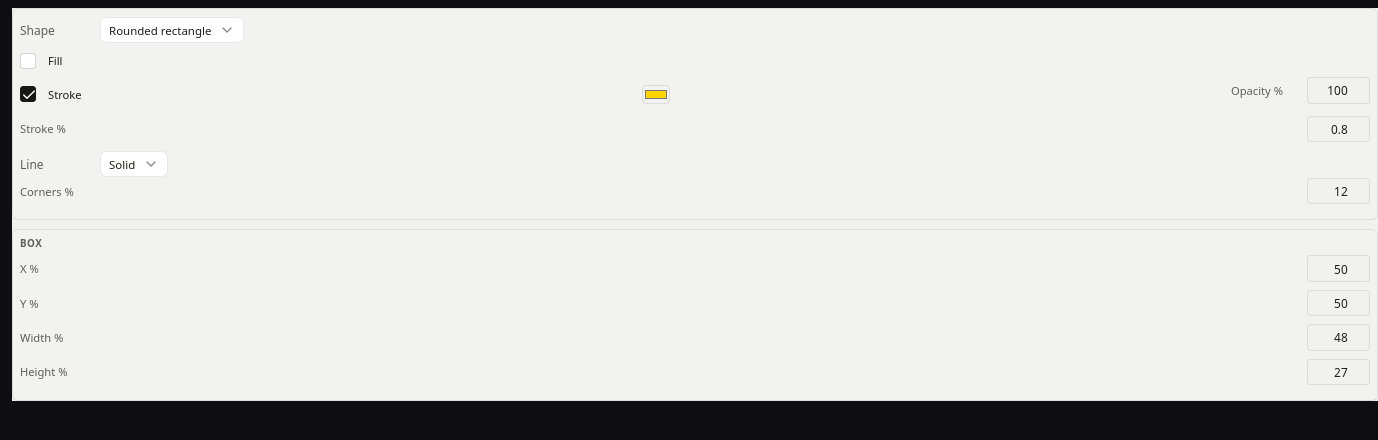
Scenario: ShapeInspector › refuses to turn off the only paint, and says why
The width and height of the screenshot is (1378, 440).
Click the checkbox named "shape stroke". click: x=51, y=94
box: [20,86,82,102]
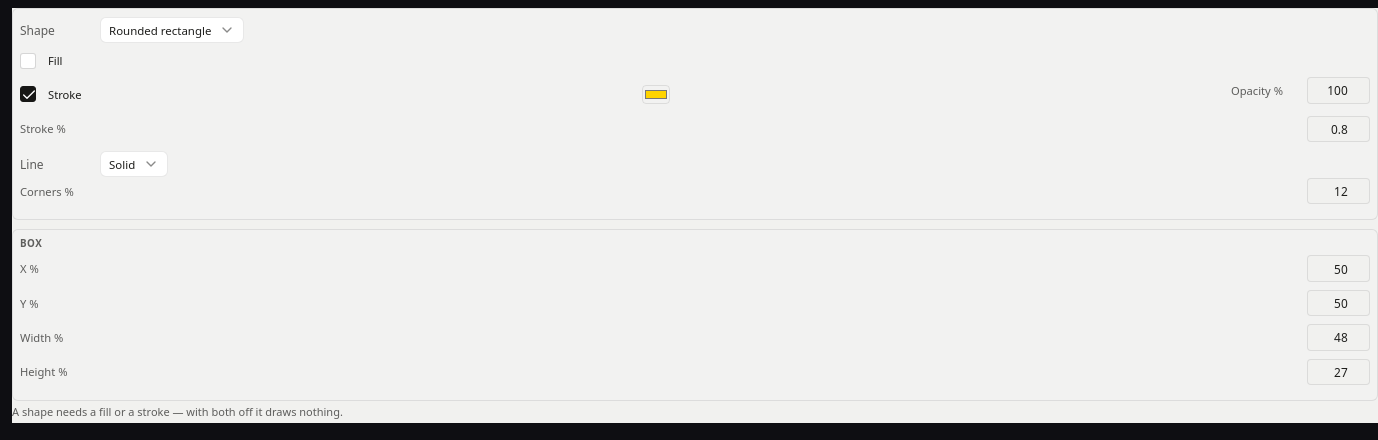
Check: the message reads "A shape needs a fill or a stroke — with both off it draws nothing.", box [12,404,343,419]
